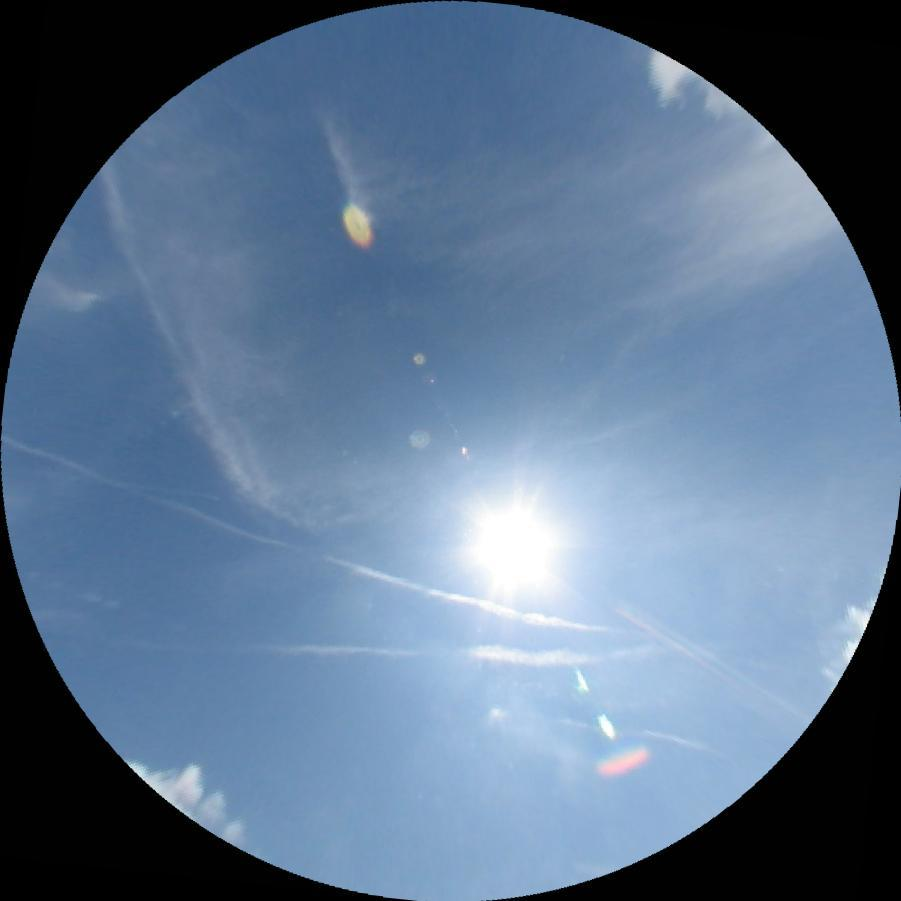contrail veryold: (0, 432, 619, 652), (135, 639, 671, 666)
parasite: (2, 462, 291, 509)
sun: (476, 507, 550, 577)
unknow: (558, 710, 713, 754)
